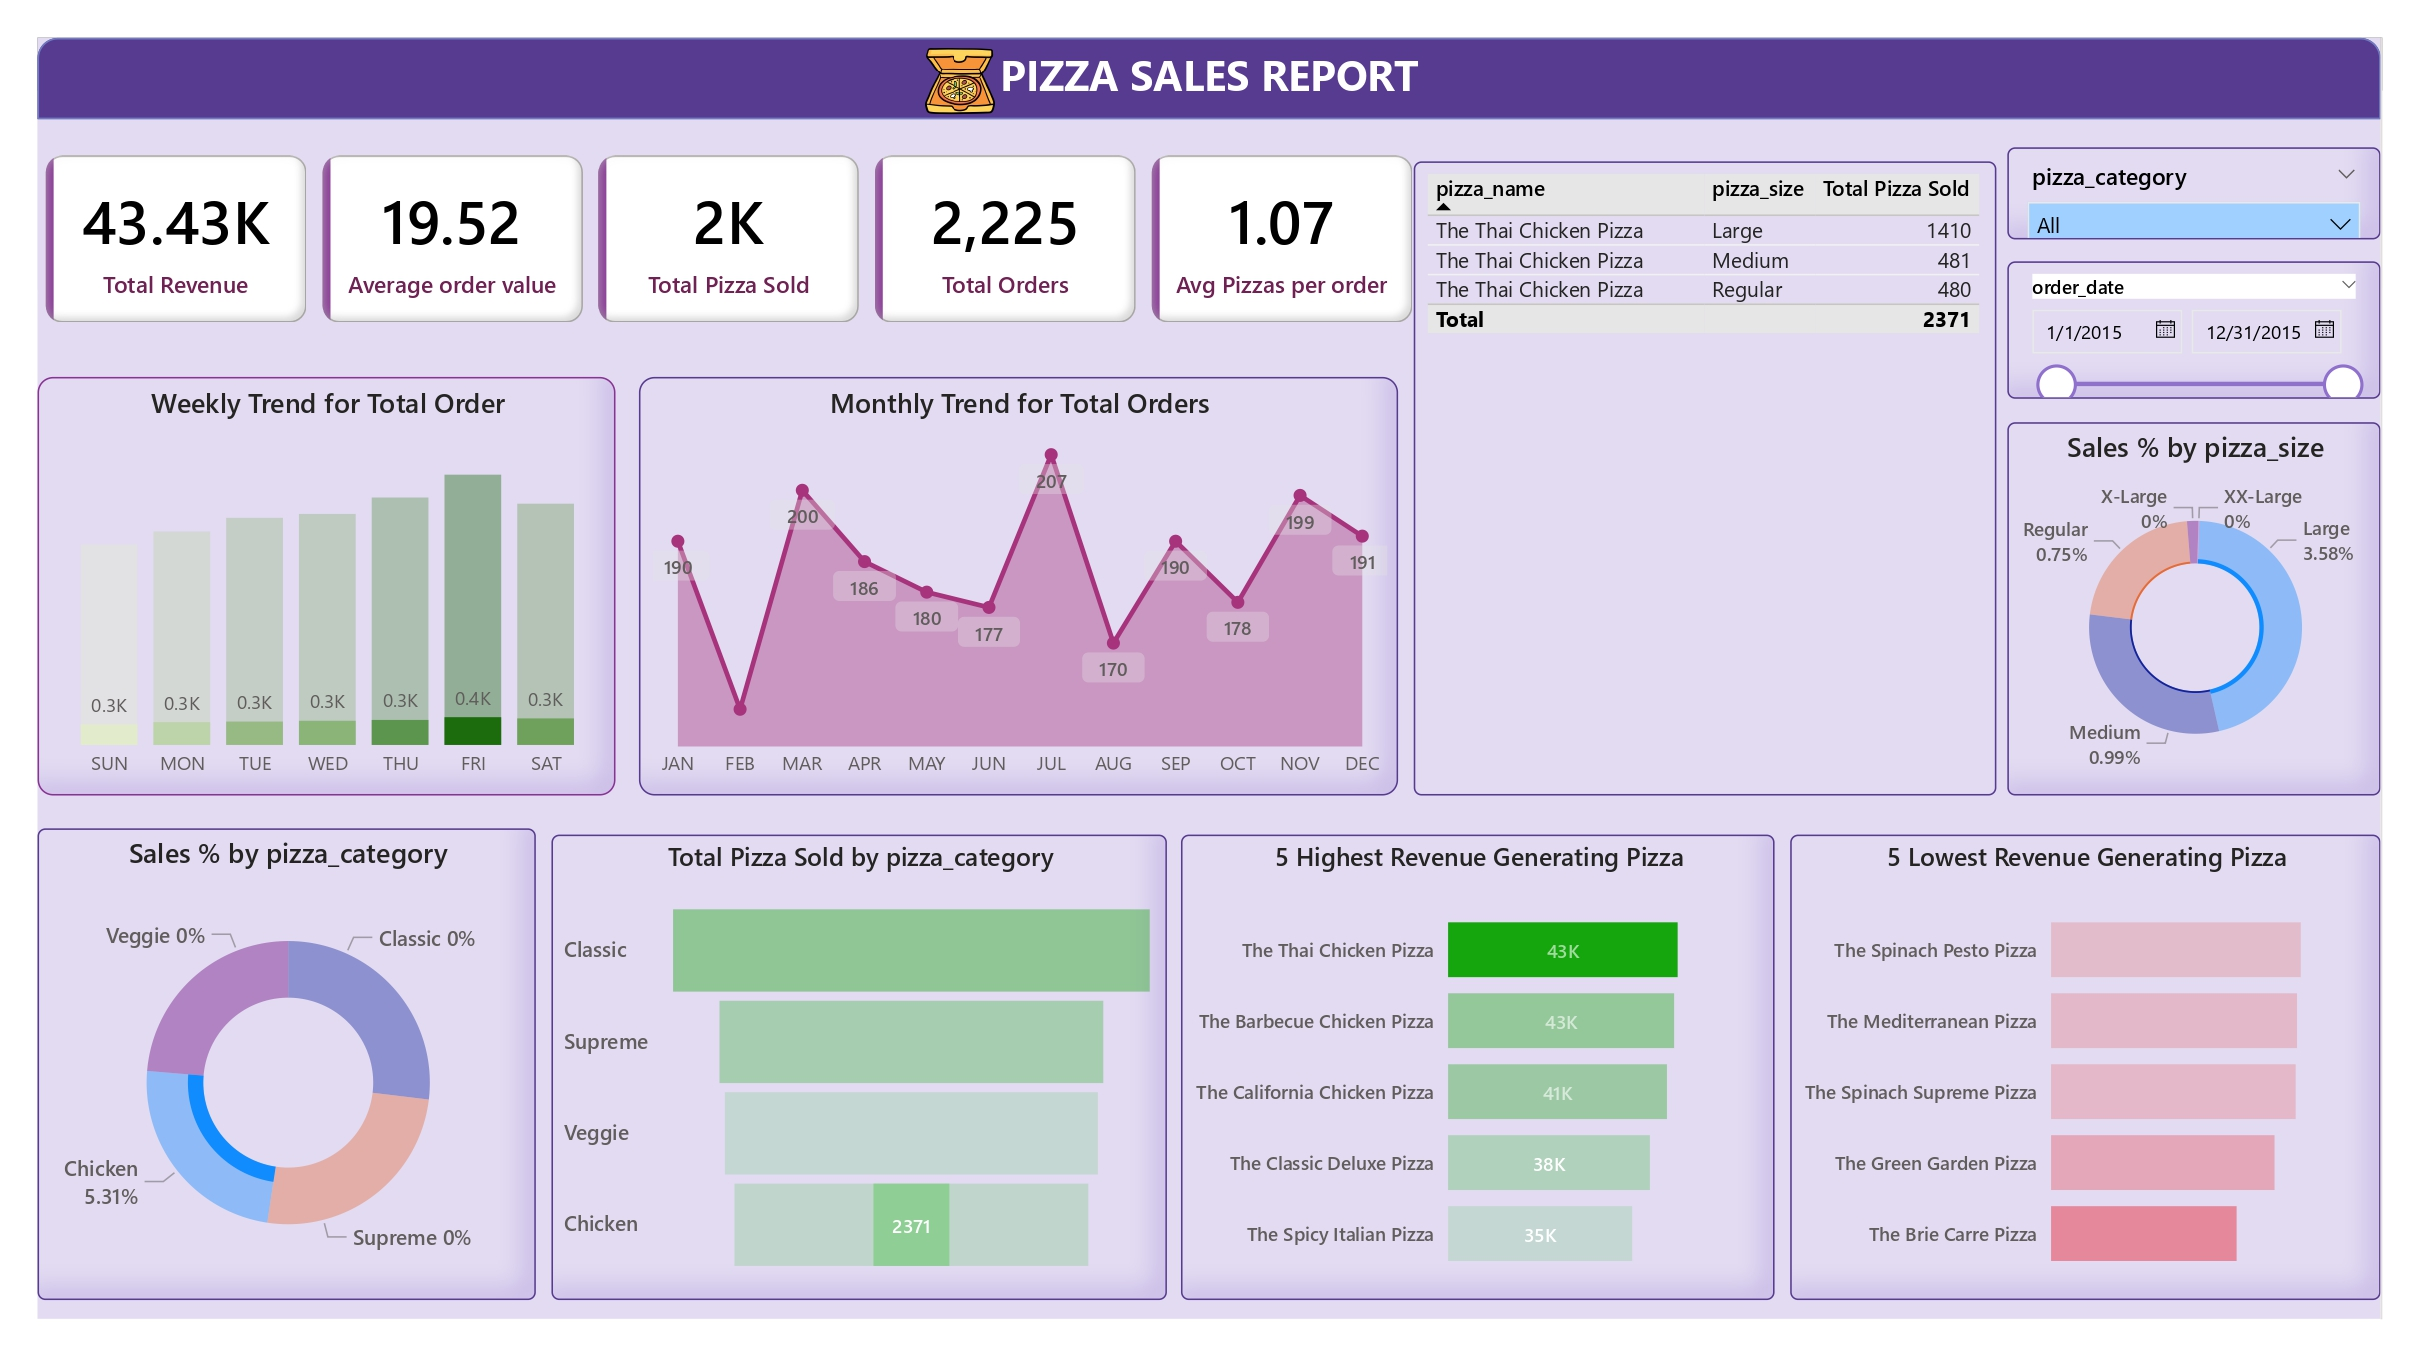

What the dashboard file says about the page in this screenshot:
{"tool":"powerbi","page":{"name":"Page 1","canvas":[1500,820],"ordinal":0},"visuals":[{"type":"cardVisual","fields":{"Data":["pizza_sales.Total Revenue","pizza_sales.Average order value","pizza_sales.Total Pizza Sold","pizza_sales.Total Orders","pizza_sales.Avg Pizzas per order"]},"box":[0,70,888,117],"z":0},{"type":"shape","box":[0,0,1500,52],"z":1000},{"type":"textbox","box":[0,0,1500,48],"z":2000},{"type":"columnChart","title":"Weekly Trend for Total Order","fields":{"Category":["pizza_sales.Order Day"],"Y":["pizza_sales.Total Orders"]},"box":[0,217,370,268],"z":3000},{"type":"stackedAreaChart","title":"Monthly Trend for Total Orders ","fields":{"Category":["pizza_sales.Order Month"],"Y":["pizza_sales.Total Orders"]},"box":[385,217,486,268],"z":4000},{"type":"donutChart","title":"Sales % by pizza_category","fields":{"Category":["pizza_sales.pizza_category"],"Y":["pizza_sales.Total Revenue"]},"box":[0,506,319,302],"z":4001},{"type":"donutChart","title":"Sales % by pizza_size","fields":{"Y":["pizza_sales.Total Revenue"],"Category":["pizza_sales.pizza_size"]},"box":[1261,246,239,239],"z":4002},{"type":"funnel","fields":{"Category":["pizza_sales.pizza_category"],"Y":["pizza_sales.Total Pizza Sold"]},"box":[329,510,394,298],"z":4003},{"type":"tableEx","fields":{"Values":["pizza_sales.pizza_name","pizza_sales.pizza_size","pizza_sales.Total Pizza Sold"]},"box":[881,79,373,406],"z":4004},{"type":"slicer","fields":{"Values":["pizza_sales.pizza_category"]},"box":[1261,70,239,59],"z":4005},{"type":"slicer","fields":{"Values":["pizza_sales.order_date"]},"box":[1261,143,239,88],"z":4007},{"type":"barChart","title":"5 Highest Revenue Generating Pizza","fields":{"Category":["pizza_sales.pizza_name"],"Y":["pizza_sales.Total Revenue"]},"box":[732,510,380,298],"z":4008},{"type":"barChart","title":"5 Lowest Revenue Generating Pizza","fields":{"Category":["pizza_sales.pizza_name"],"Y":["pizza_sales.Total Revenue"]},"box":[1122,510,378,298],"z":4009},{"type":"image","box":[552,0,76,55],"z":4010}]}

Visuals, with their boxes in screenshot pixels (x1, y1, x2, y2):
cardVisual - pizza_sales.Total Revenue x pizza_sales.Average order value: left=38, top=147, right=1426, bottom=330
shape: left=38, top=38, right=2382, bottom=119
textbox: left=38, top=38, right=2382, bottom=113
"Weekly Trend for Total Order" columnChart: left=38, top=377, right=616, bottom=796
"Monthly Trend for Total Orders " stackedAreaChart: left=639, top=377, right=1399, bottom=796
"Sales % by pizza_category" donutChart: left=38, top=829, right=536, bottom=1301
"Sales % by pizza_size" donutChart: left=2009, top=422, right=2382, bottom=796
funnel - pizza_sales.pizza_category x pizza_sales.Total Pizza Sold: left=552, top=835, right=1168, bottom=1301
tableEx - pizza_sales.pizza_name x pizza_sales.pizza_size: left=1415, top=161, right=1998, bottom=796
slicer - pizza_sales.pizza_category: left=2009, top=147, right=2382, bottom=239
slicer - pizza_sales.order_date: left=2009, top=261, right=2382, bottom=399
"5 Highest Revenue Generating Pizza" barChart: left=1182, top=835, right=1776, bottom=1301
"5 Lowest Revenue Generating Pizza" barChart: left=1792, top=835, right=2382, bottom=1301
image: left=900, top=38, right=1019, bottom=124
